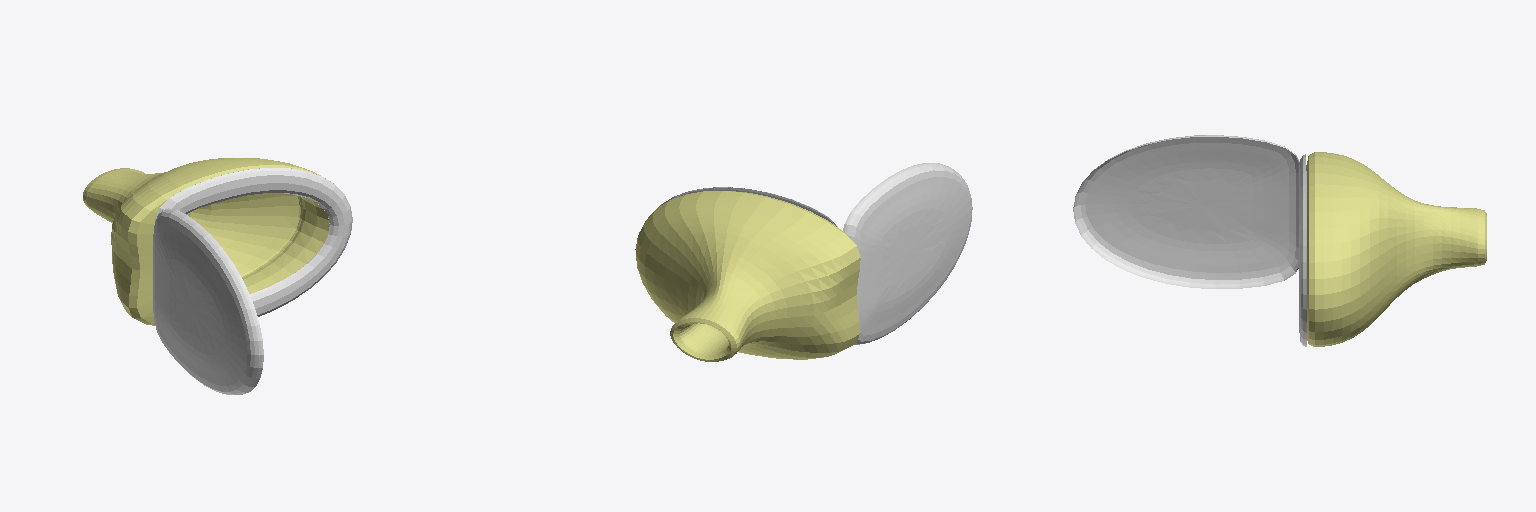
Rendered from toilet.obj.
The picture shows the model from 3 angles: view 1: azimuth 30°, elevation 25°; view 2: azimuth 150°, elevation 25°; view 3: azimuth 270°, elevation 25°; orthographic projection.
Visible parts, largest first — view 1: mesh01; view 2: mesh01; view 3: mesh01.
Part boxes in pixels (x1,y1,x2,y2): mesh01: (83,158,352,394); mesh01: (635,163,972,361); mesh01: (1073,135,1486,346).
Size of the model in its own units: 553 by 365 by 897.